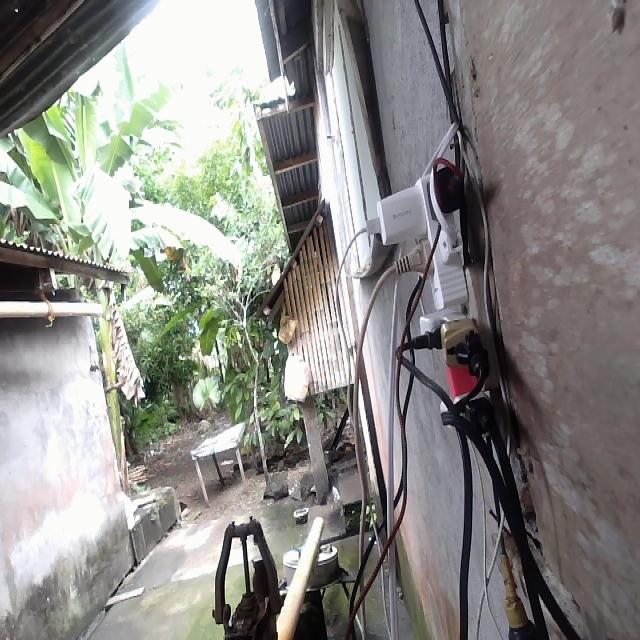-: (361, 156, 509, 437)
